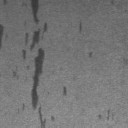red iron: (22, 0, 54, 128), (98, 110, 110, 120), (0, 24, 4, 48), (78, 22, 82, 34), (4, 0, 8, 6), (89, 51, 92, 58), (64, 86, 66, 96), (13, 72, 16, 77)
